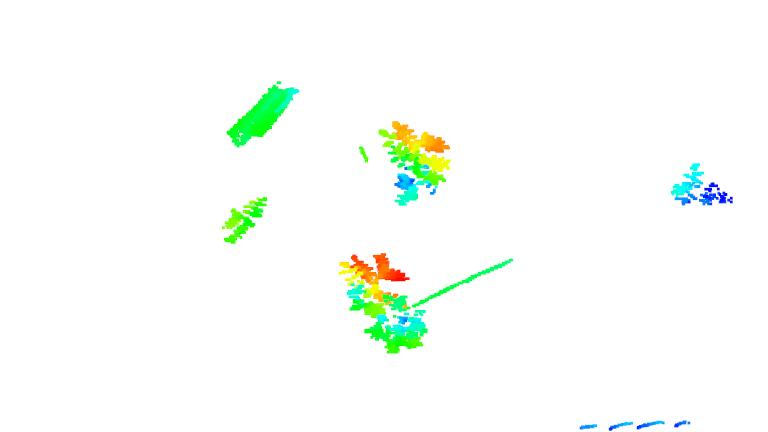chickpea: (338, 251, 430, 354), (377, 117, 456, 210), (667, 162, 735, 209), (217, 193, 272, 245)
